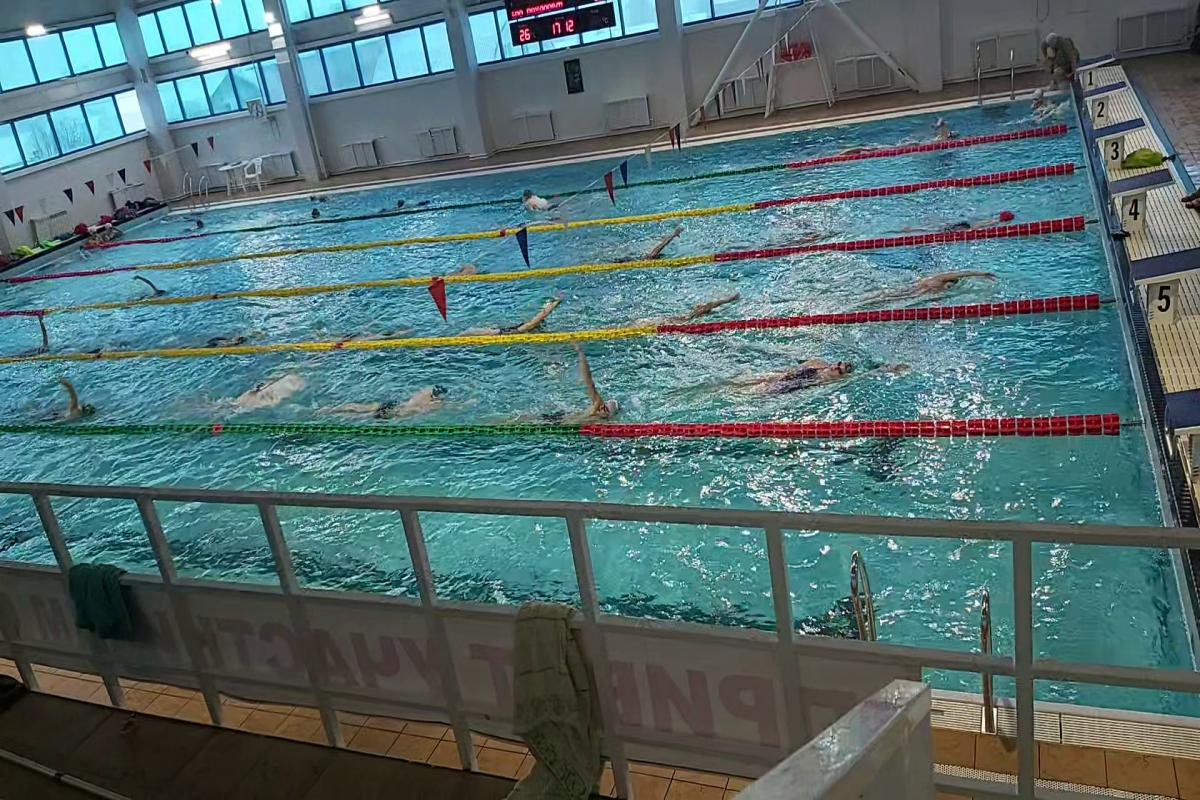swimmer: (722, 344, 924, 398), (529, 350, 624, 425), (866, 260, 1006, 299), (342, 382, 456, 426), (42, 370, 128, 423), (657, 290, 748, 322), (468, 306, 570, 333), (617, 219, 694, 254), (198, 321, 269, 347), (129, 270, 189, 300), (941, 207, 1020, 226), (516, 189, 570, 215), (434, 260, 498, 276)
